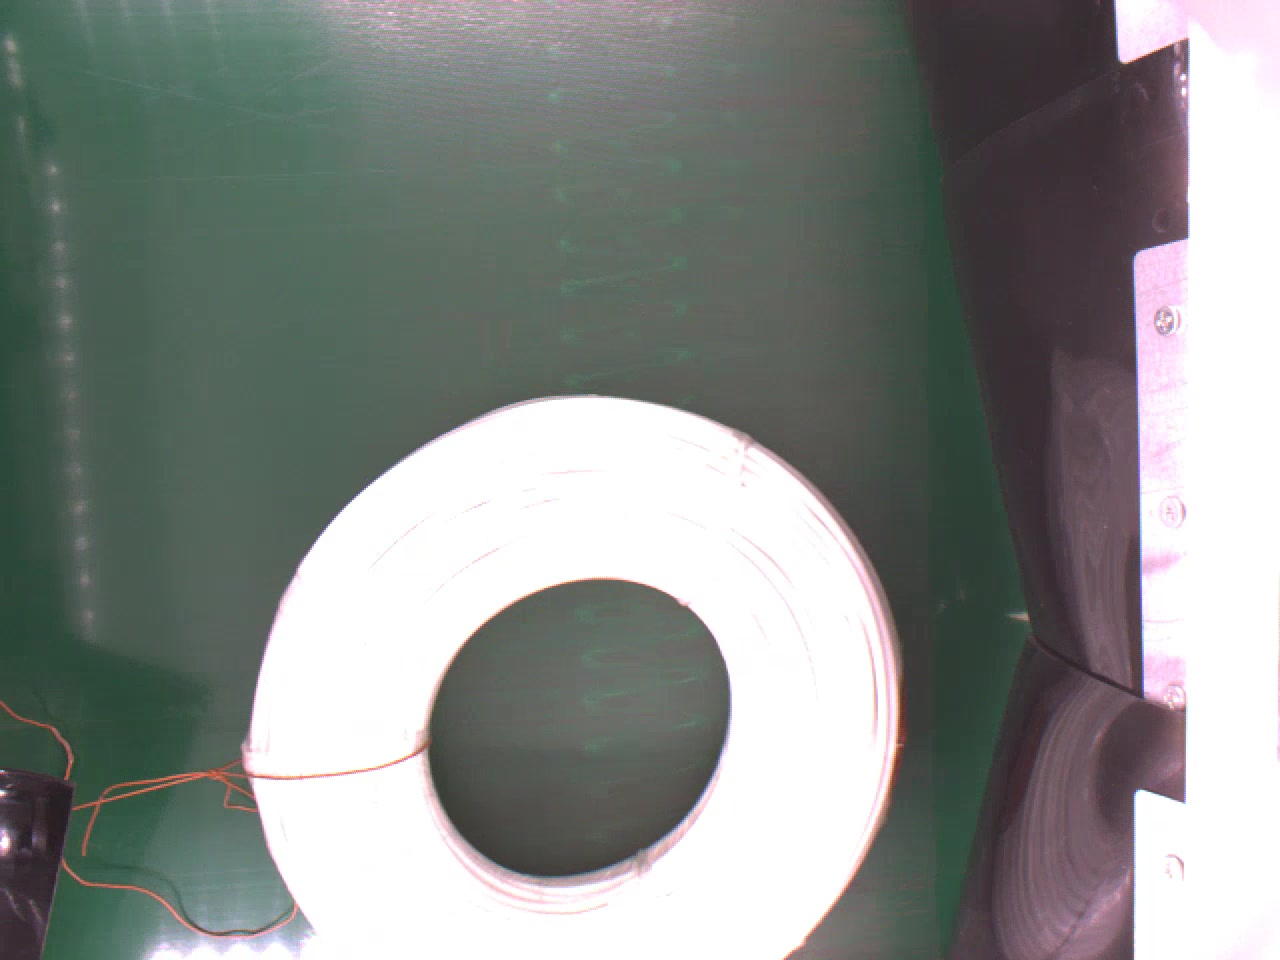white: (243, 388, 916, 954)
